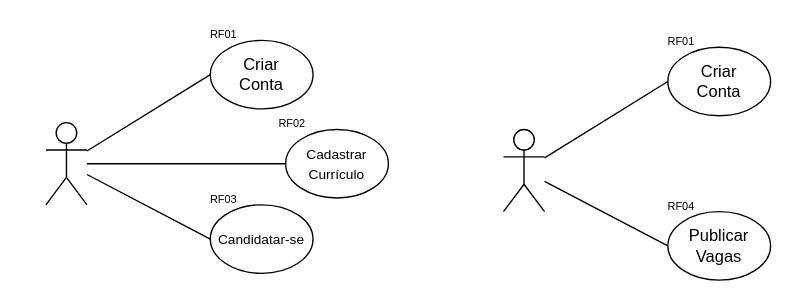
The diagram is 795 pixels wide and 304 high, and some of its shapes have lost their labels. The shapes that lost their labels are listed below. From the top down, each one's centre as x and y in pixels, then its label:
At point (66, 163): "Usuário (Candidato)".
At point (523, 170): "Usuário (Empresa)".
